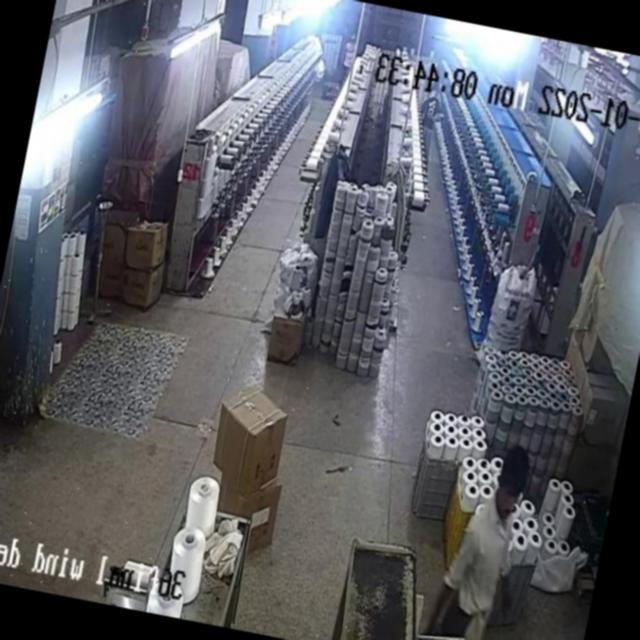person: (424, 441, 532, 640), (409, 88, 440, 164), (334, 30, 360, 90)
